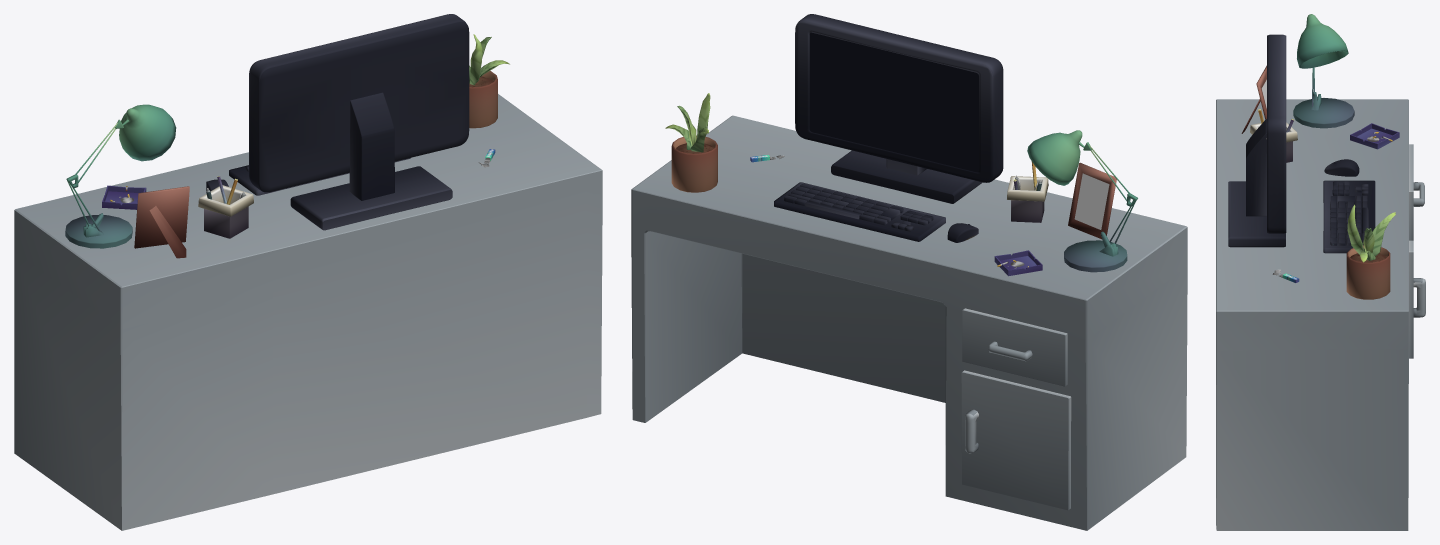
Rendered from desk_w_everything_006 (1).fbx.
The picture shows the model from 3 angles, left to right: view 1: azimuth 30°, elevation 25°; view 2: azimuth 150°, elevation 25°; view 3: azimuth 270°, elevation 25°; orthographic projection. The views are drawn at different scales.
Parts seen in each view (by area): view 1: Desk, monitor, lamp, frame, pencilholder, plant, ashtray; view 2: Desk, monitor, keyboard, lamp, plant, pencilholder, glass, frame, ashtray; view 3: Desk, monitor, lamp, keyboard, plant, ashtray, mouse, pencilholder, frame.
Part boxes in pixels (x1,y1,x2,y2): Desk: [14, 94, 602, 530]; monitor: [249, 14, 469, 230]; lamp: [65, 104, 176, 248]; frame: [134, 186, 189, 258]; pencilholder: [198, 176, 253, 238]; plant: [469, 34, 509, 128]; ashtray: [102, 185, 146, 209]; Desk: [631, 115, 1187, 530]; monitor: [795, 14, 1003, 203]; keyboard: [774, 182, 945, 241]; lamp: [1027, 130, 1137, 272]; plant: [665, 93, 717, 192]; pencilholder: [1007, 161, 1048, 222]; glass: [1074, 173, 1109, 229]; frame: [1068, 162, 1116, 239]; ashtray: [994, 250, 1042, 276]; Desk: [1216, 99, 1425, 530]; monitor: [1228, 34, 1286, 247]; lamp: [1293, 14, 1354, 128]; keyboard: [1323, 180, 1375, 253]; plant: [1346, 204, 1395, 299]; ashtray: [1350, 123, 1399, 149]; mouse: [1324, 159, 1359, 176]; pencilholder: [1250, 109, 1297, 162]; frame: [1241, 65, 1266, 133].
Bounding box in the file's own units: 350 × 278 × 146.
